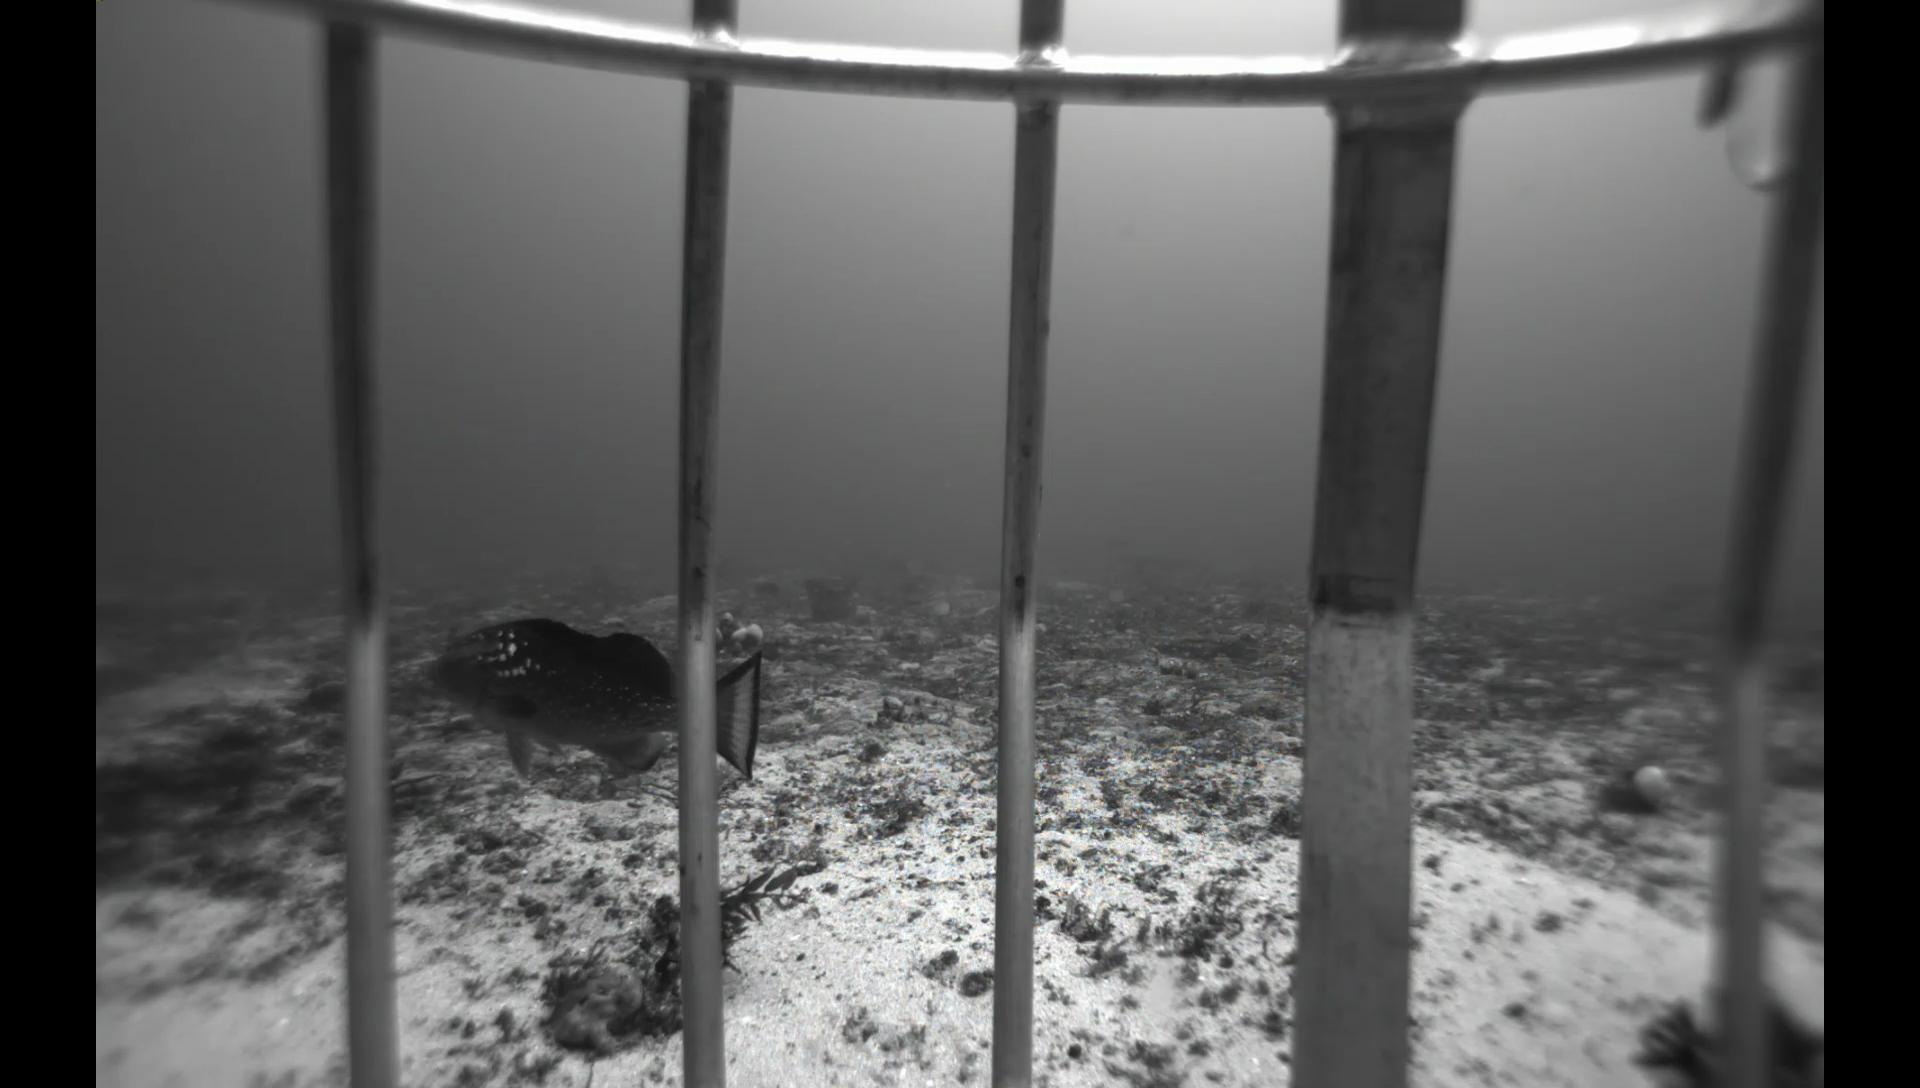CHAETODONOCELLATUS-170260307: (924, 597, 957, 621), (1101, 586, 1130, 608)
EPINEPHELUSMORIO-170021211: (384, 600, 795, 827)
PRISTIGENYSALTA-170050401: (295, 674, 345, 717)
